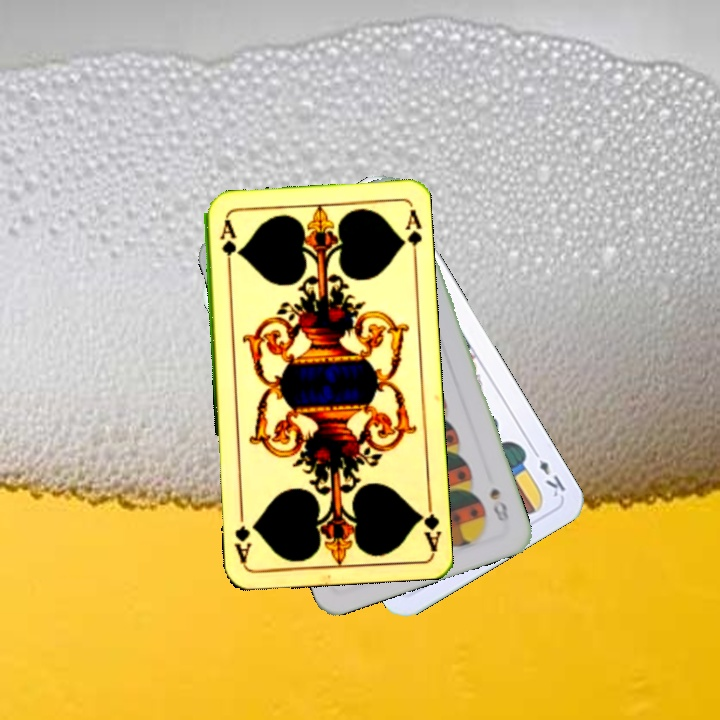EK: (527, 444, 569, 500)
GA: (414, 493, 443, 552), (216, 215, 239, 274)
S8: (486, 484, 512, 524)
